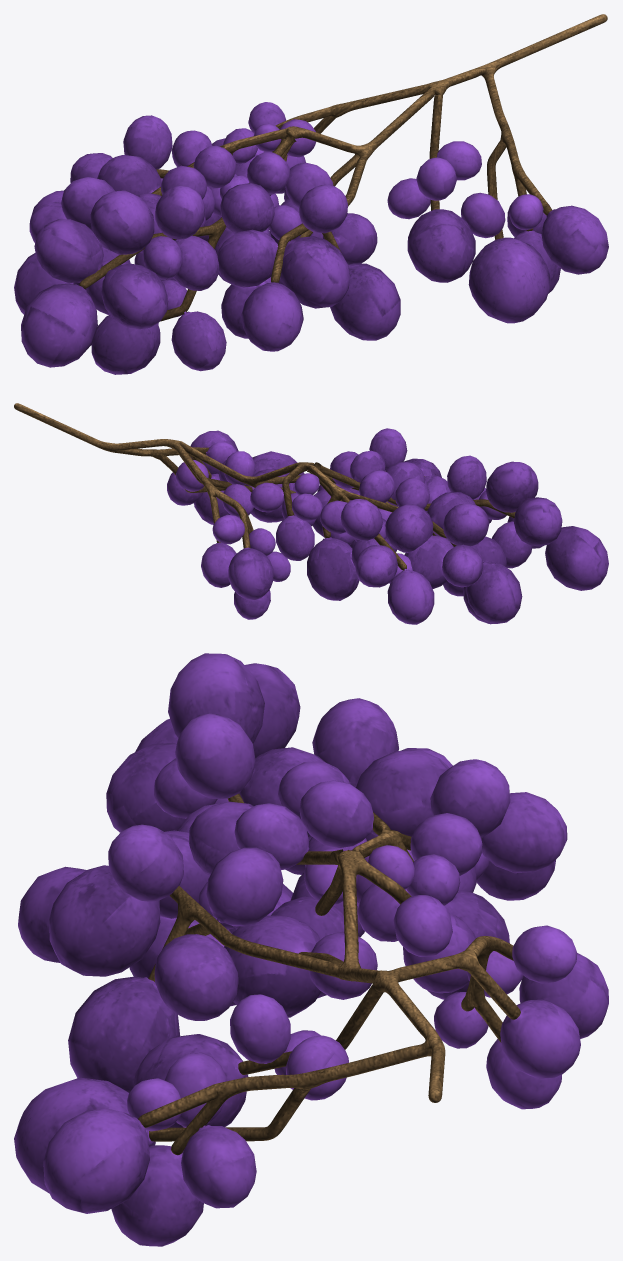
The model's file is Grapes.fbx.
The picture shows the model from 3 angles, top to bottom: view 1: azimuth 30°, elevation 25°; view 2: azimuth 150°, elevation 25°; view 3: azimuth 270°, elevation 25°; orthographic projection. The views are drawn at different scales.
Visible parts, largest first — view 1: Grapes; view 2: Grapes; view 3: Grapes.
Part boxes in pixels (x1,y1,x2,y2): Grapes: [14, 14, 608, 374]; Grapes: [14, 403, 608, 624]; Grapes: [14, 653, 608, 1246].
Bounding box in the file's own units: 5345 × 1491 × 2680.
Materials: 2 (2 with a texture image).
